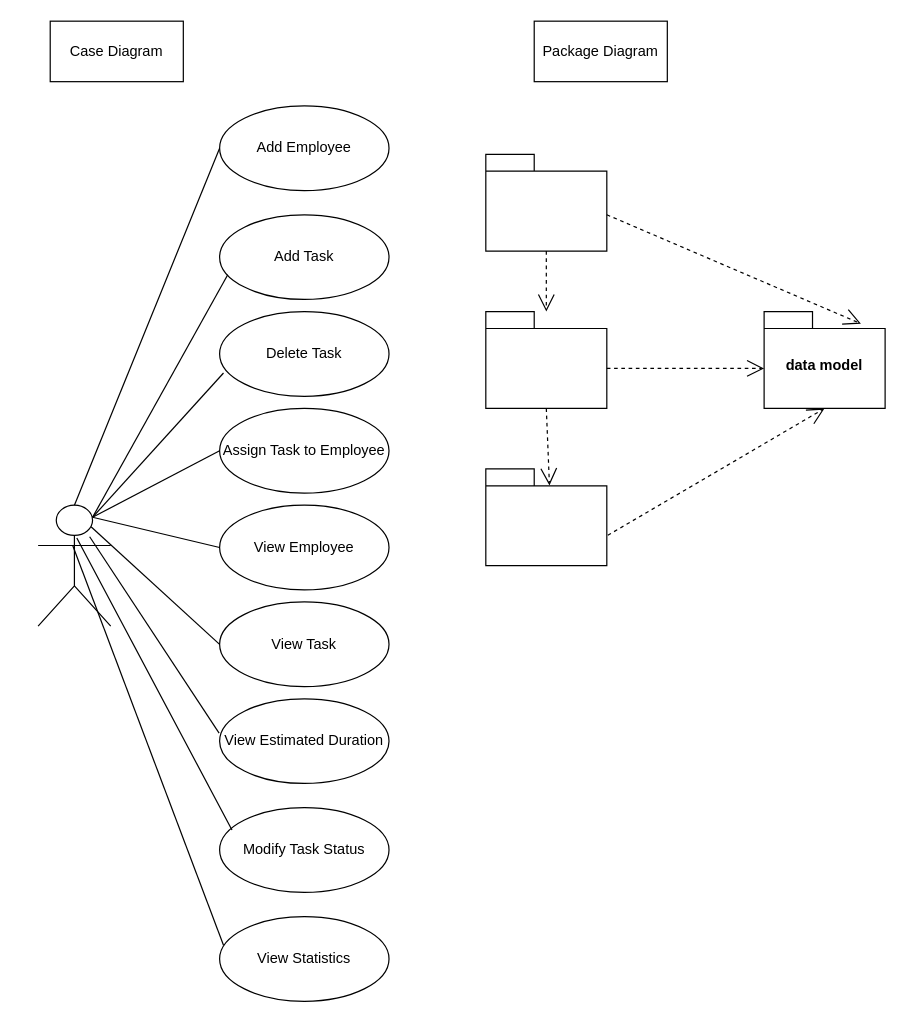
This 906x1022 diagram has some shape labels left out. Here are the shapes that lost their labels. From the top down, the centre of each, then its label:
At point (546, 202): "gui".
At point (546, 359): "business logic".
At point (546, 517): "data access".
At point (74, 565): "Project Manager".
